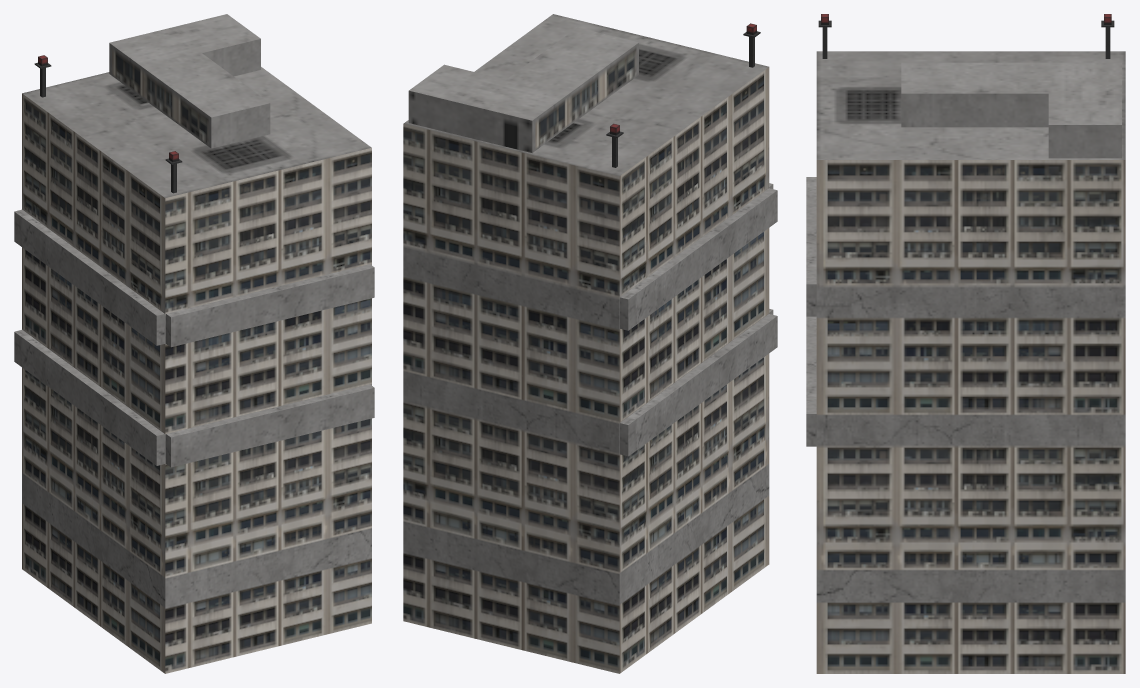
File: HH_Building_Background_02.fbx
3 views of the same model, side by side, from view 1: azimuth 30°, elevation 25°; view 2: azimuth 150°, elevation 25°; view 3: azimuth 270°, elevation 25° (orthographic). The views are drawn at different scales.
Parts seen in each view (by area): view 1: HH_Building_Background_02; view 2: HH_Building_Background_02; view 3: HH_Building_Background_02.
Boxes of the visible parts, x1=… form: HH_Building_Background_02: x1=14, y1=14, x2=374, y2=673; HH_Building_Background_02: x1=403, y1=14, x2=777, y2=673; HH_Building_Background_02: x1=806, y1=14, x2=1125, y2=673.
Bounding box in the file's own units: 191 × 438 × 228.
